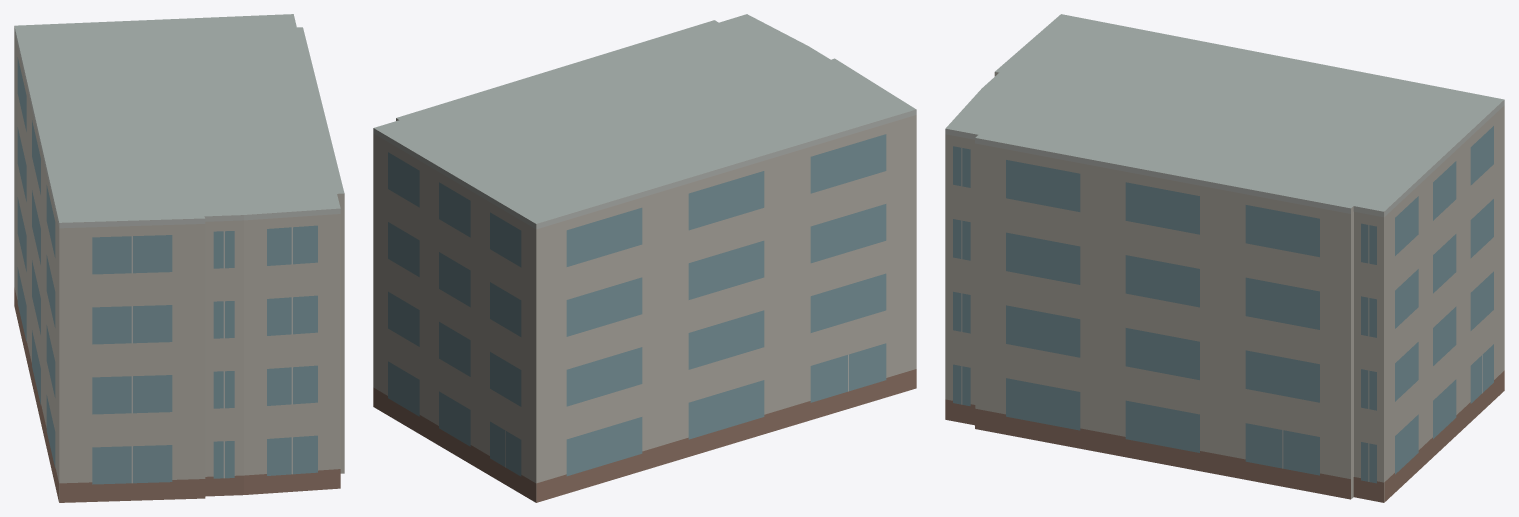
Rendered from survey-upis-32669776.glb.
3 renders of one model, left to right at view 1: azimuth 30°, elevation 25°; view 2: azimuth 150°, elevation 25°; view 3: azimuth 270°, elevation 25°, orthographic. The views are drawn at different scales.
Parts seen in each view (by area): view 1: survey-upis-32669776.tmp; view 2: survey-upis-32669776.tmp; view 3: survey-upis-32669776.tmp.
Boxes of the visible parts, x1,y1,x2,y2 form: survey-upis-32669776.tmp: (14, 14, 344, 502); survey-upis-32669776.tmp: (373, 14, 916, 502); survey-upis-32669776.tmp: (945, 14, 1504, 502).
Bounding box in the file's own units: 18.37 × 12.6 × 21.95.
